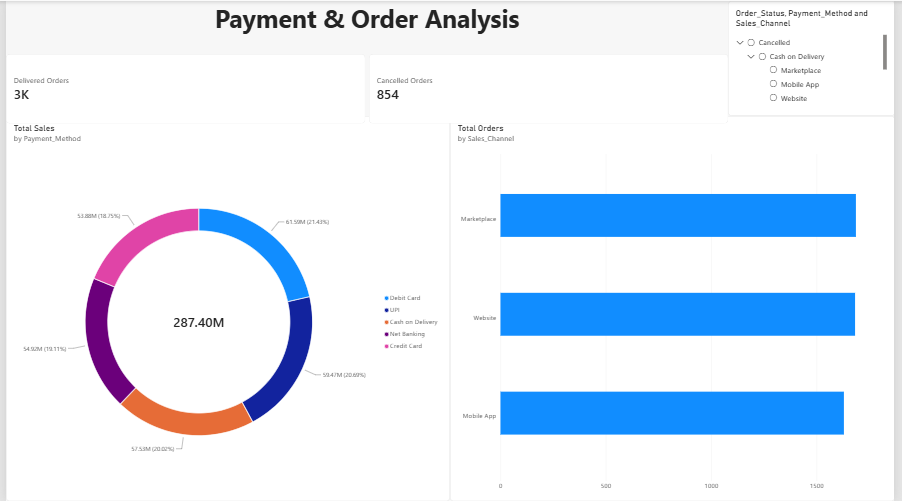

Layout of this report page (visuals, bound fields, positions):
{"tool":"powerbi","page":{"name":"Payment & Order Analysis","canvas":[1920,1080],"ordinal":5},"visuals":[{"type":"textbox","box":[0,0,1920.2,86.4],"z":0},{"type":"donutChart","fields":{"Category":["Orders.Payment_Method"],"Y":["Calendar.Total Sales"]},"box":[0,263.5,959,816.5],"z":1000},{"type":"clusteredBarChart","fields":{"Category":["Orders.Sales_Channel"],"Y":["Calendar.Total Orders"]},"box":[959,263.5,961.2,816.5],"z":2000},{"type":"cardVisual","fields":{"Data":["Calendar.Delivered Orders","Calendar.Cancelled Orders"]},"box":[0,86.4,959,177.1],"z":3000},{"type":"listSlicer","fields":{"Values":["Orders.Order_Status","Orders.Payment_Method","Orders.Sales_Channel"]},"box":[959,86.4,961.2,177.1],"z":4000}]}

Visuals, with their boxes in screenshot pixels (x1, y1, x2, y2), scaled from the page's 1920x1080 canvas onto the 902x501 screenshot:
textbox: bbox=[0, 0, 901, 40]
donutChart - Orders.Payment_Method x Calendar.Total Sales: bbox=[0, 122, 451, 500]
clusteredBarChart - Orders.Sales_Channel x Calendar.Total Orders: bbox=[451, 122, 901, 500]
cardVisual - Calendar.Delivered Orders x Calendar.Cancelled Orders: bbox=[0, 40, 451, 122]
listSlicer - Orders.Order_Status x Orders.Payment_Method: bbox=[451, 40, 901, 122]
